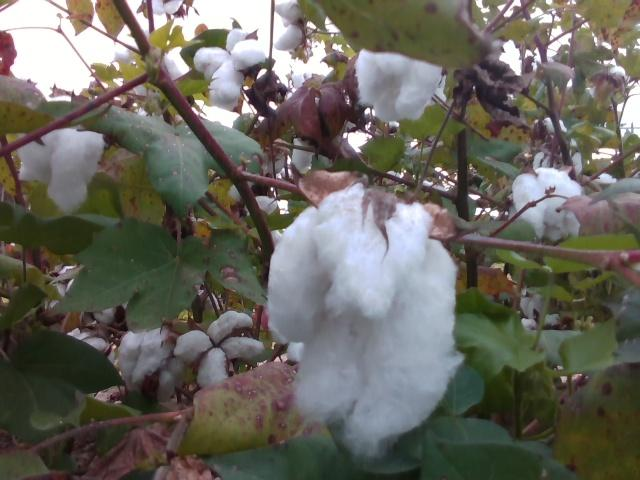cotton_ready: (270, 182, 461, 462), (15, 127, 105, 212), (174, 309, 263, 388), (356, 47, 442, 121), (195, 31, 269, 109), (514, 167, 581, 239), (112, 48, 182, 114), (117, 327, 170, 383), (532, 117, 582, 174), (517, 287, 563, 329), (230, 178, 277, 218), (42, 262, 75, 313), (273, 2, 305, 51), (261, 135, 288, 176), (69, 329, 110, 355), (92, 300, 127, 328), (291, 139, 315, 174), (150, 0, 181, 17)
